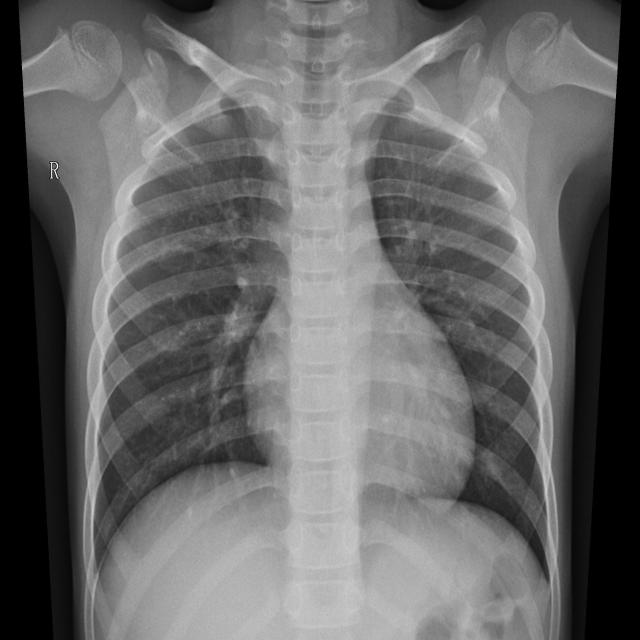no-pneumonia: (87, 98, 290, 587), (367, 87, 557, 583)
